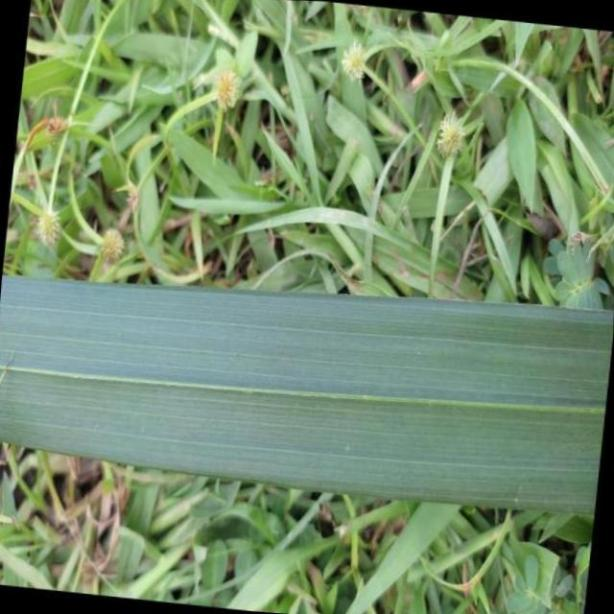Healthy: (0, 275, 614, 516)
